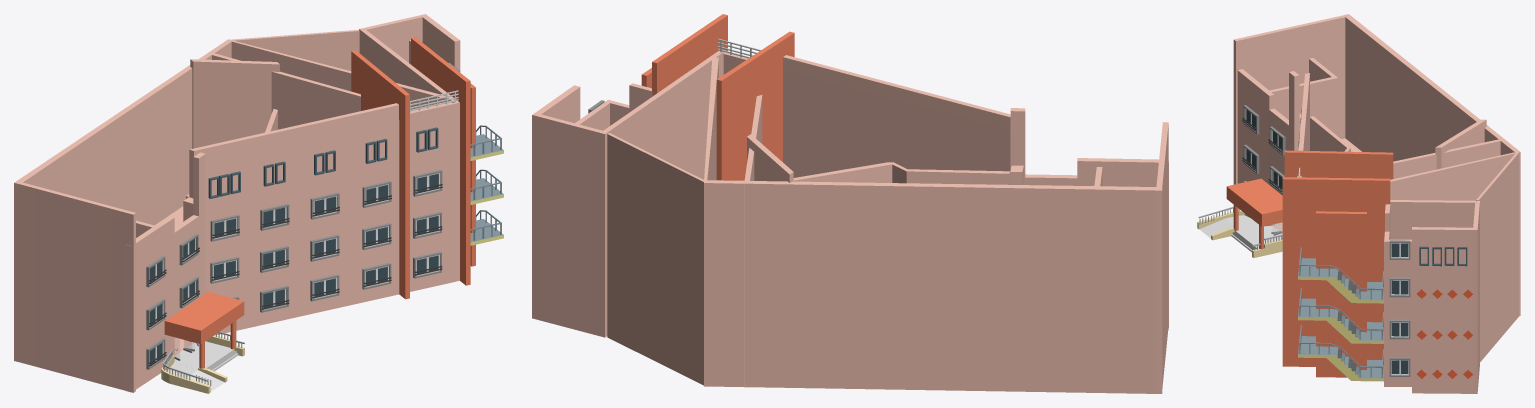
The model's file is Dometary (2).FBX.
3 renders of one model, left to right at view 1: azimuth 30°, elevation 25°; view 2: azimuth 150°, elevation 25°; view 3: azimuth 270°, elevation 25°, orthographic. The views are drawn at different scales.
Visible parts, largest first — view 1: Dometary; view 2: Dometary; view 3: Dometary.
Boxes of the visible parts, x1,y1,x2,y2 form: Dometary: (14,14,503,393); Dometary: (532,14,1168,393); Dometary: (1197,14,1520,393).
Size of the model in its own units: 353 by 223 by 142.
